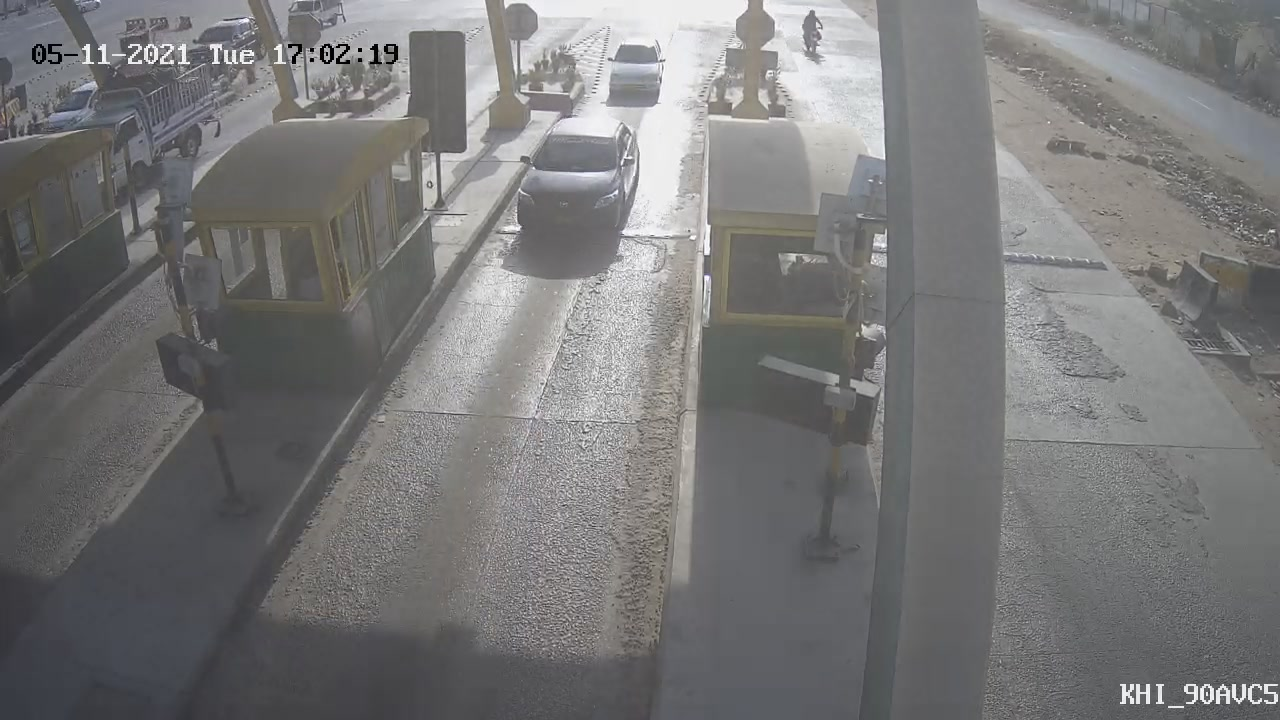F1: (492, 98, 664, 266)
